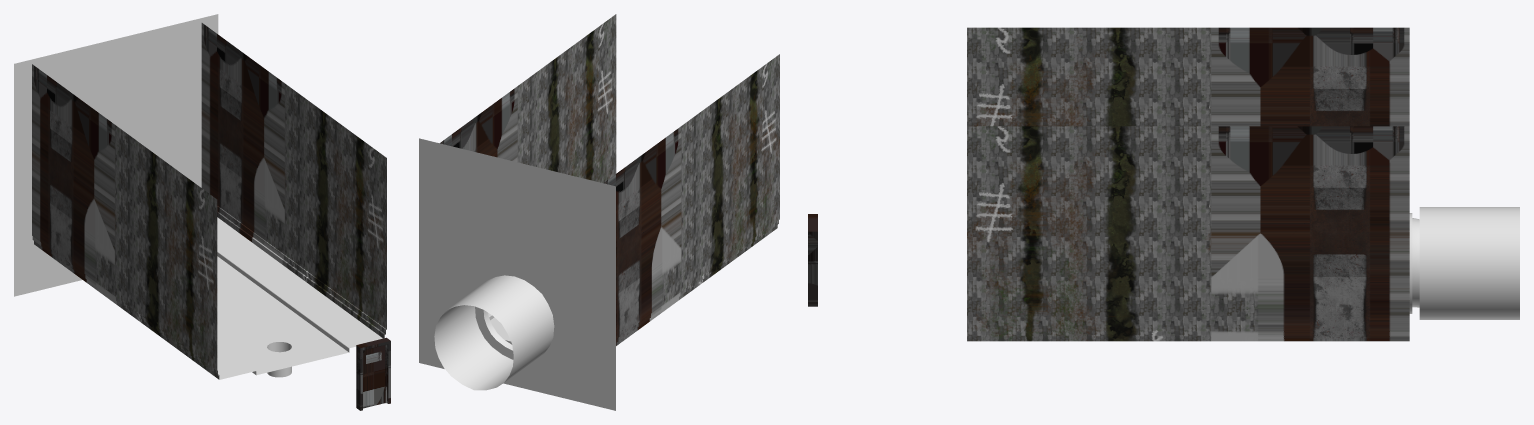
The model's file is Zem a dlažka.fbx.
3 renders of one model, left to right at view 1: azimuth 30°, elevation 25°; view 2: azimuth 150°, elevation 25°; view 3: azimuth 270°, elevation 25°, orthographic. The views are drawn at different scales.
Visible parts, largest first — view 1: Cylinder.001, Cylinder.027, Retopo_Plane.001, Cylinder.028, Cylinder.026, Cylinder.025; view 2: Retopo_Plane.001, Cylinder.001, Cylinder.027; view 3: Cylinder.027, Cylinder.001, Retopo_Plane.001, Cylinder.025.
Boxes of the visible parts, left/top/right/bottom form: Cylinder.001: left=124, top=90, right=386, bottom=379; Cylinder.027: left=32, top=23, right=294, bottom=311; Retopo_Plane.001: left=14, top=14, right=218, bottom=296; Cylinder.028: left=217, top=272, right=382, bottom=379; Cylinder.026: left=217, top=217, right=291, bottom=294; Cylinder.025: left=356, top=337, right=390, bottom=410; Retopo_Plane.001: left=419, top=138, right=615, bottom=410; Cylinder.001: left=526, top=14, right=779, bottom=292; Cylinder.027: left=440, top=80, right=690, bottom=345; Cylinder.027: left=1188, top=27, right=1409, bottom=341; Cylinder.001: left=967, top=27, right=1188, bottom=341; Retopo_Plane.001: left=1409, top=207, right=1519, bottom=319; Cylinder.025: left=808, top=214, right=817, bottom=306.
Bounding box in the file's own units: 1337 × 1456 × 3380.
